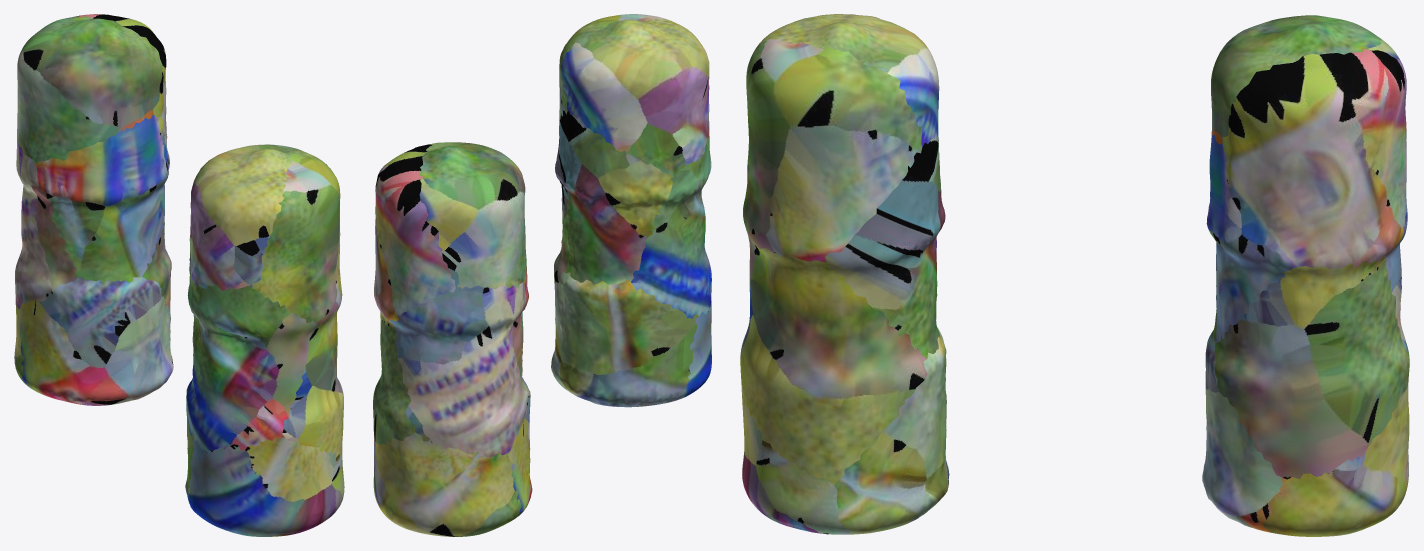
Rendered from Emergency_Flares_for__0822024732_preview.obj.
The picture shows the model from 3 angles, left to right: view 1: azimuth 30°, elevation 25°; view 2: azimuth 150°, elevation 25°; view 3: azimuth 270°, elevation 25°; orthographic projection. The views are drawn at different scales.
Visible parts, largest first — view 1: Mesh1; view 2: Mesh1; view 3: Mesh1.
Boxes of the visible parts, x1,y1,x2,y2 form: Mesh1: (14, 14, 344, 536); Mesh1: (373, 14, 711, 536); Mesh1: (740, 14, 1409, 536).
Bounding box in the file's own units: 0.3946 × 0.9749 × 1.2.
